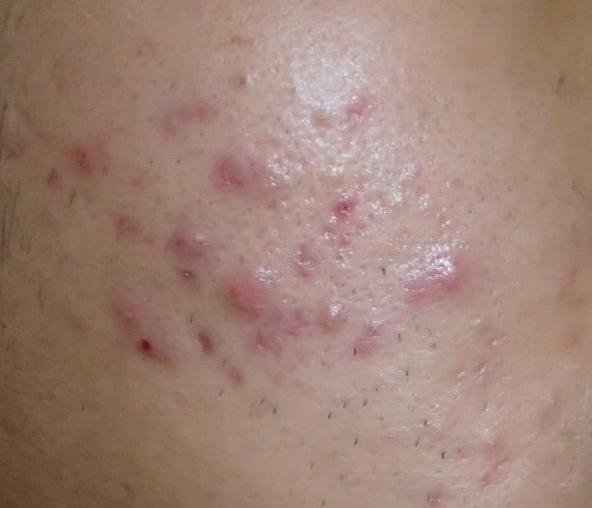cystic: (401, 243, 481, 307)
papular: (203, 130, 276, 202), (111, 292, 148, 329)
sebo-crystan-conglo: (218, 272, 284, 331), (167, 226, 211, 267), (317, 300, 355, 343)
whitehead: (311, 160, 359, 193), (381, 191, 413, 222), (481, 426, 512, 454), (287, 76, 311, 107), (323, 212, 339, 236)
